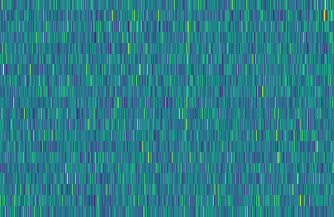signal: (179, 0, 193, 217)
